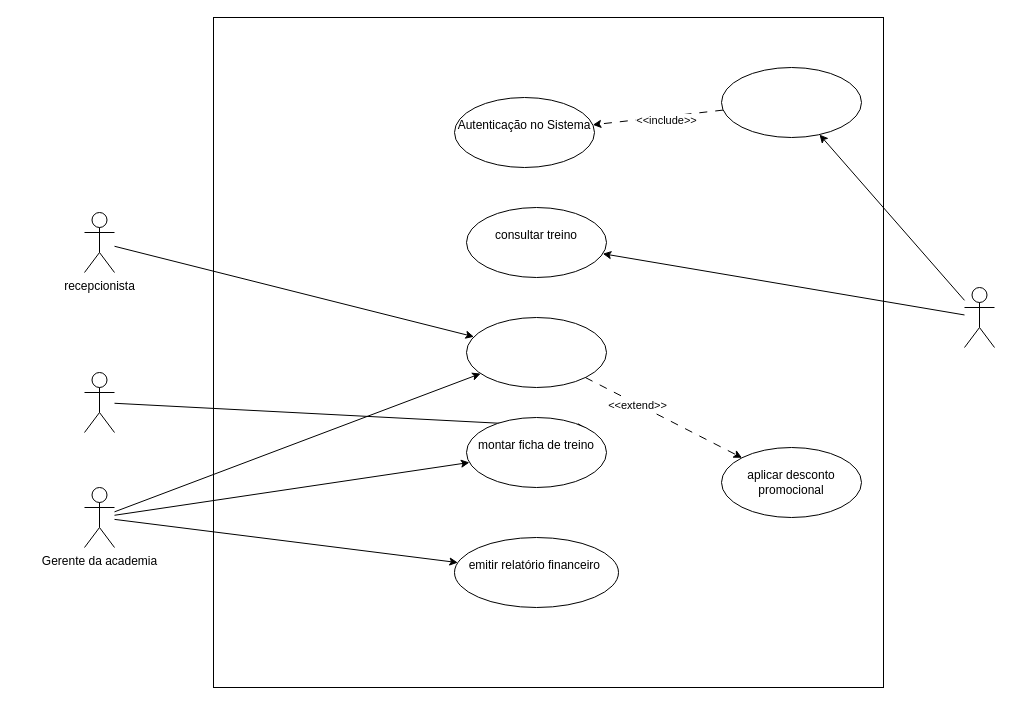
Image size: 1012x705. Some labels were removed from this diagram. The centre of each missing label's shape, as x and y in pixels:
"agendar Avaliação Física." belongs at (791,102).
"Aluno" belongs at (979,317).
"cadastrar aluno" belongs at (536,352).
"O Instrutor de Educação Física" belongs at (99,402).
